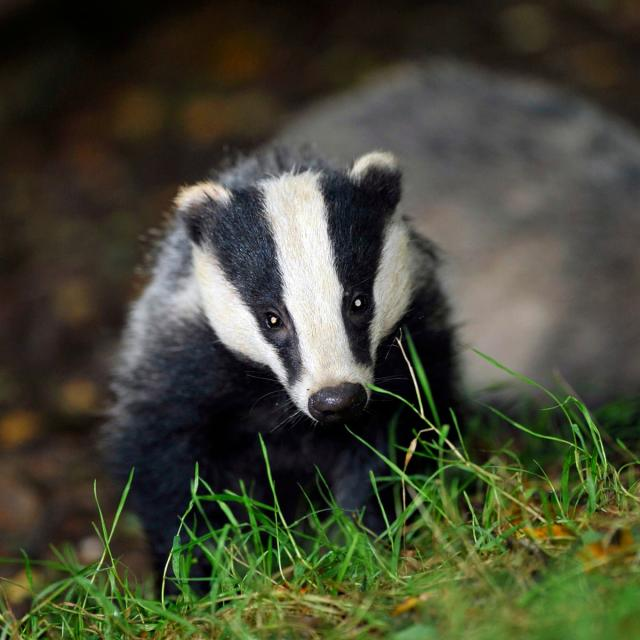badger: (103, 62, 640, 571)
